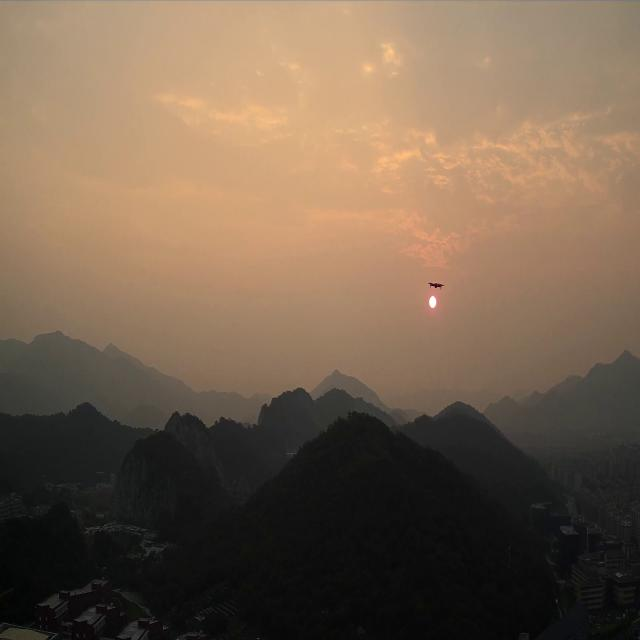drone: (428, 281, 445, 290)
